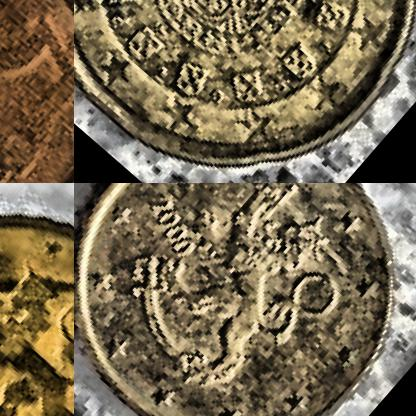coin: (74, 183, 415, 415), (74, 0, 415, 182), (0, 183, 73, 415), (0, 0, 73, 182)
